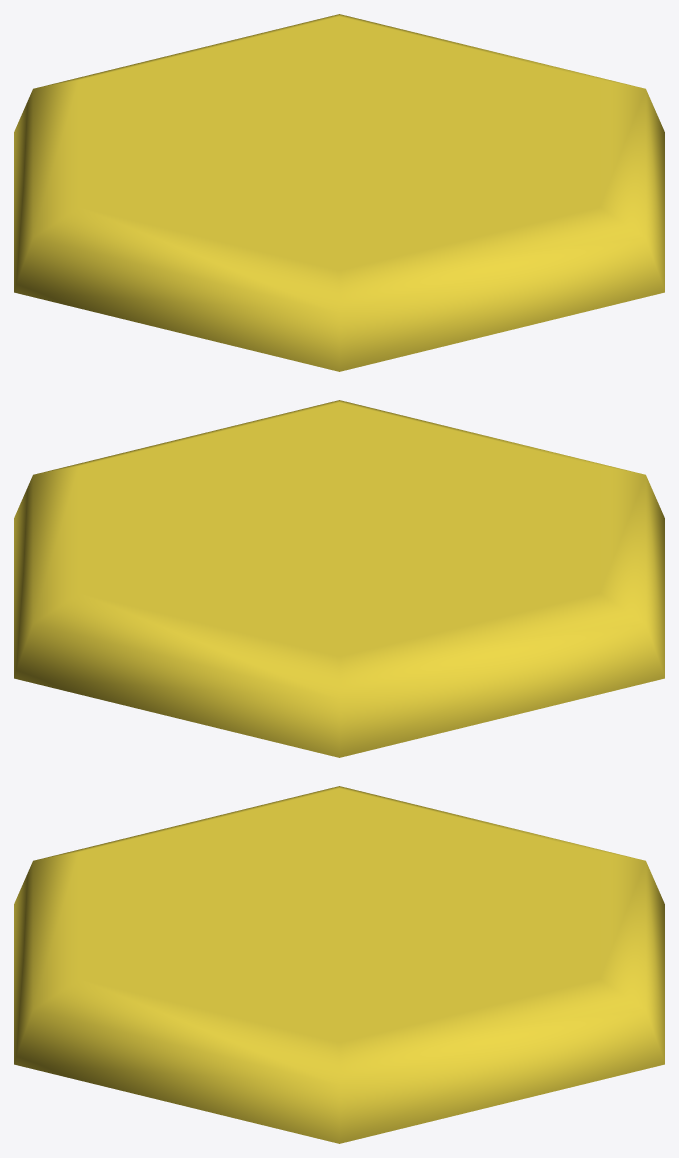
The model's file is Hexagon-Yellow.glb.
3 views of the same model, one above another, from view 1: azimuth 30°, elevation 25°; view 2: azimuth 150°, elevation 25°; view 3: azimuth 270°, elevation 25° (orthographic).
Parts seen in each view (by area): view 1: Cylinder - baked; view 2: Cylinder - baked; view 3: Cylinder - baked.
Part boxes in pixels (x1,y1,x2,y2): Cylinder - baked: (14,14,664,371); Cylinder - baked: (14,400,664,757); Cylinder - baked: (14,786,664,1143).
Size of the model in its own units: 0.0765 by 0.0078 by 0.0662.
